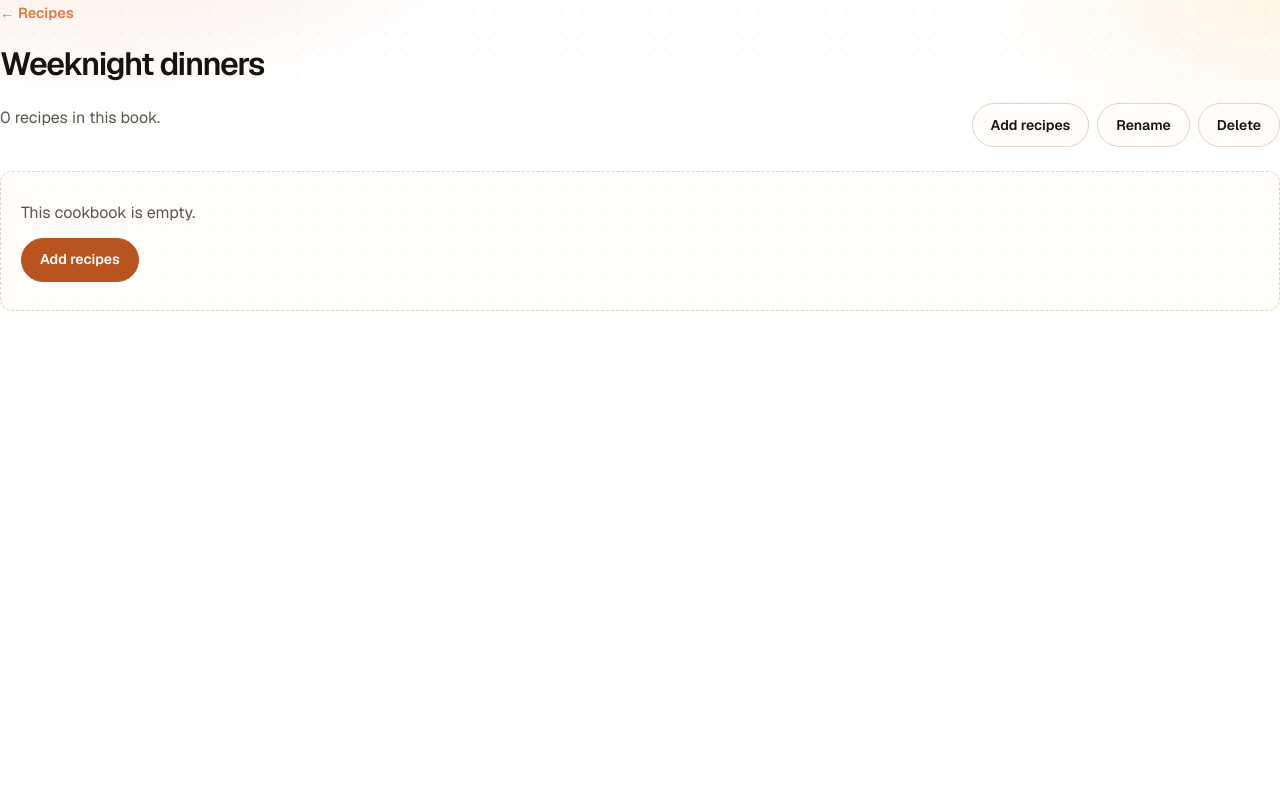
Test case: kitchen sheet-hosted forms › keeps focus while renaming a cookbook
Click the button "Rename" at (1144, 125), box [1097,103,1190,147]
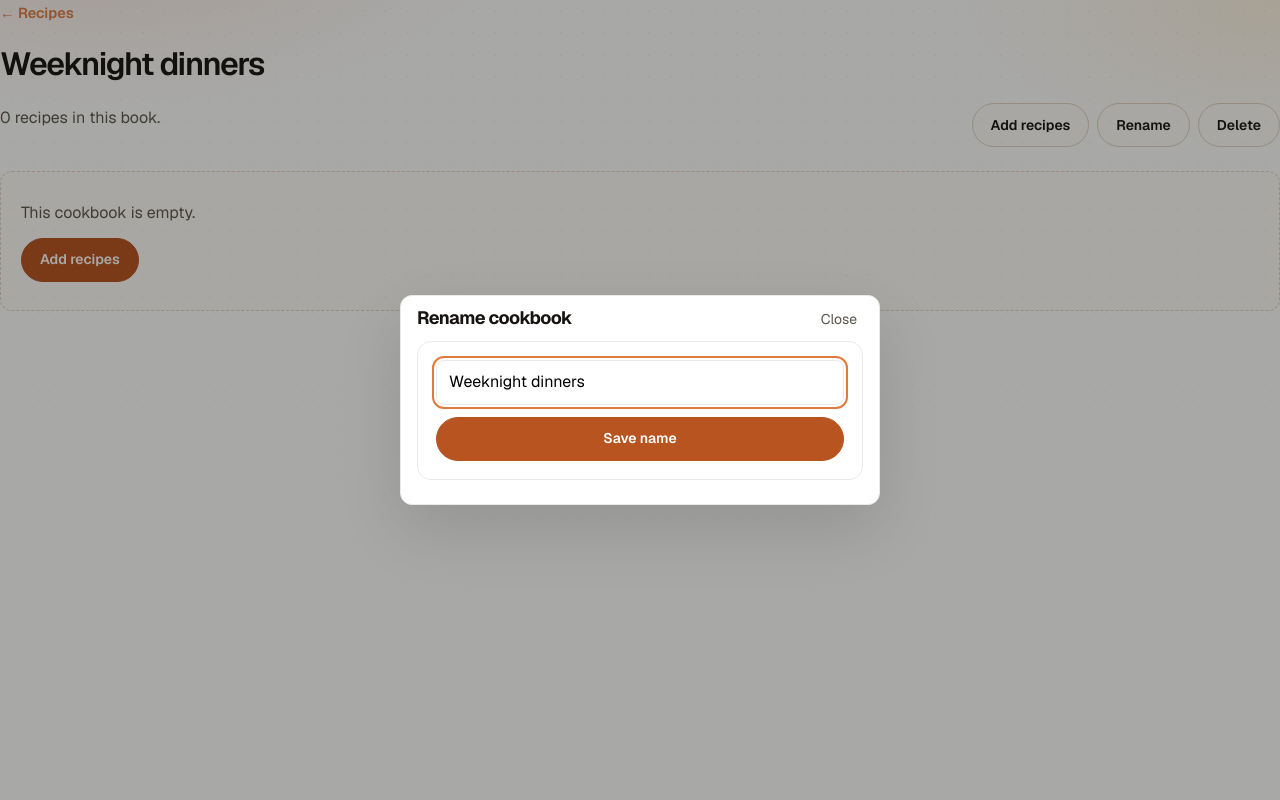
Clear the field at (640, 382), box [436,360,844,405]
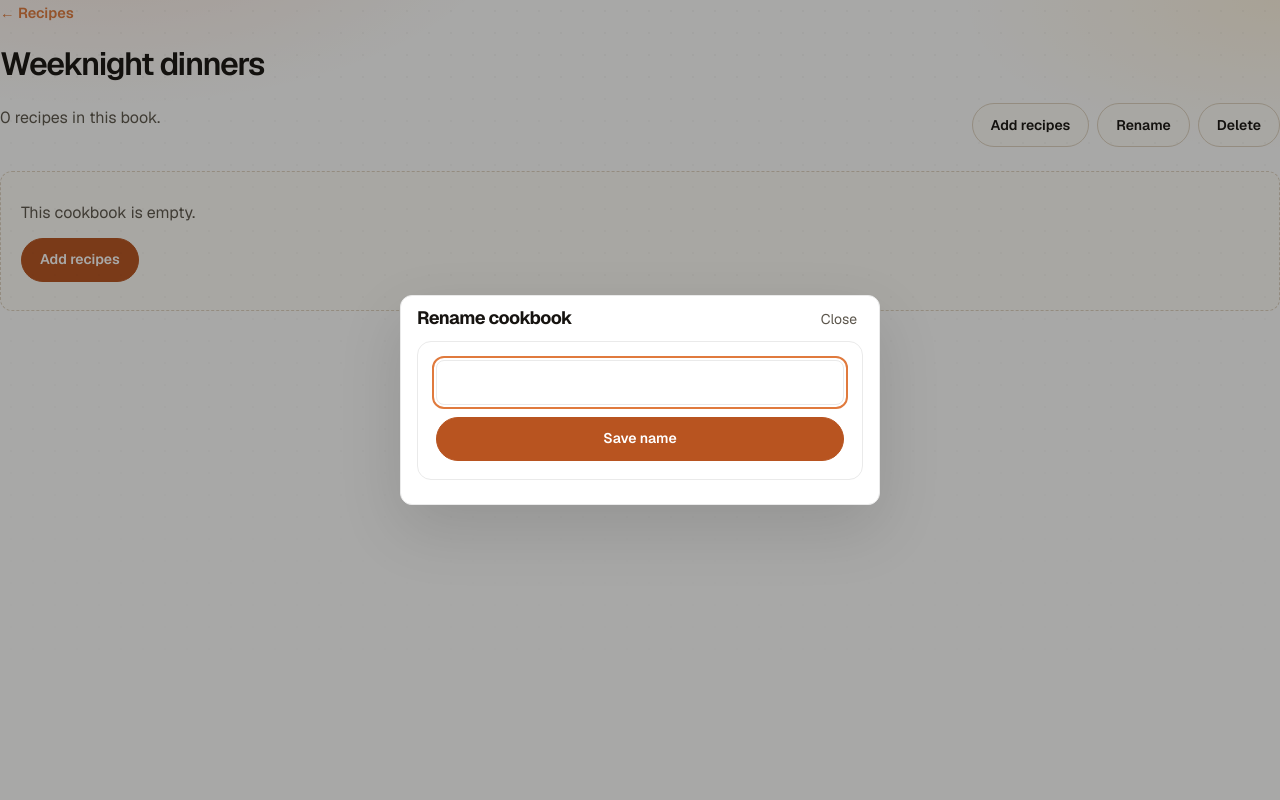
Type keys "Batch cook"
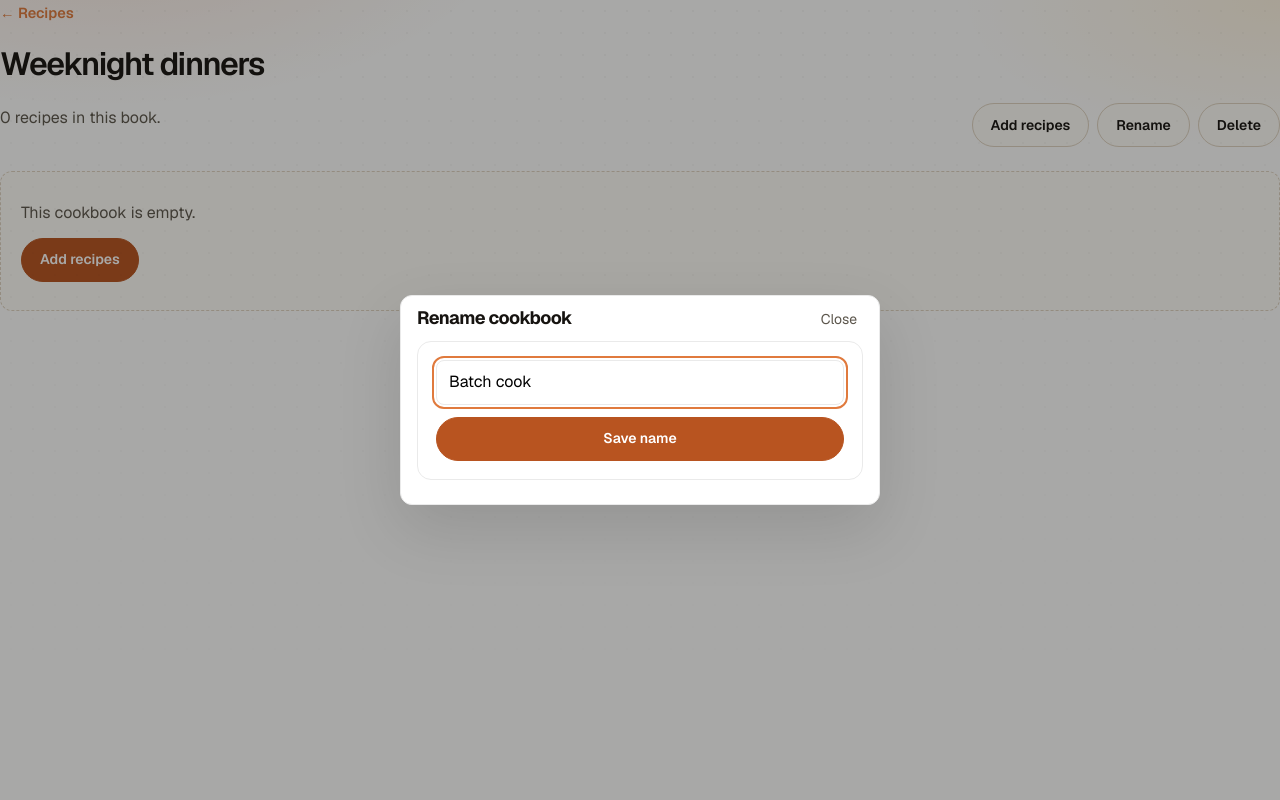
Now the field holds "Batch cook", box [436,360,844,405]
